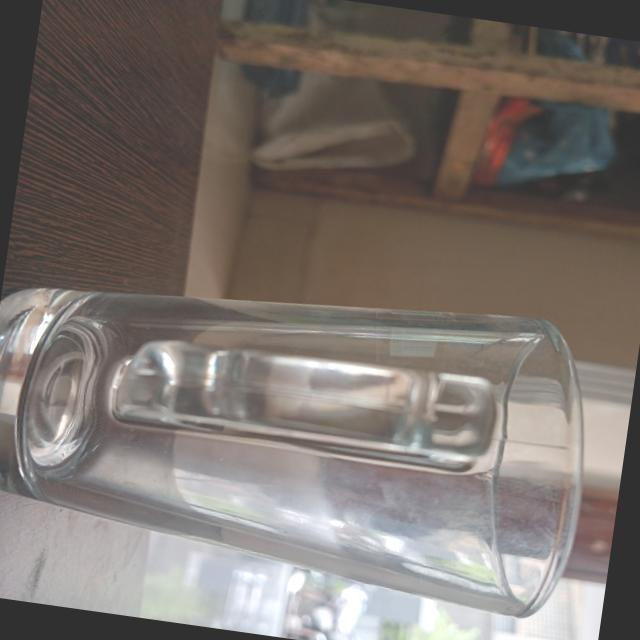glass-VX4N: (0, 241, 612, 628)
